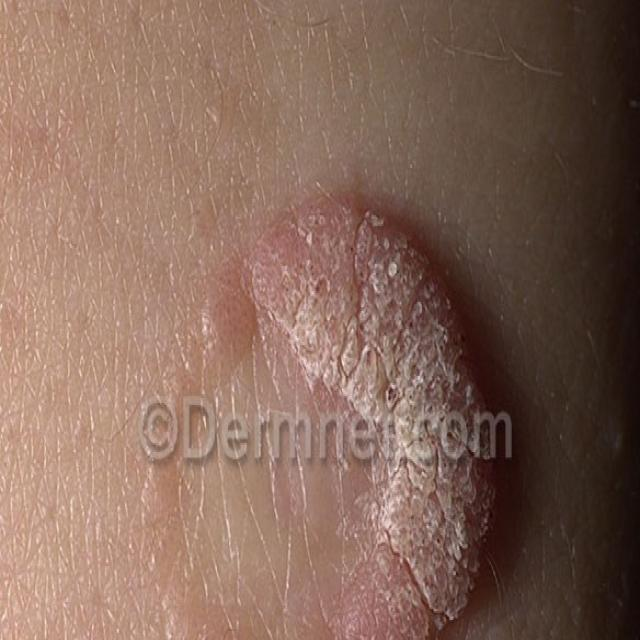Warts: (120, 157, 497, 640)
